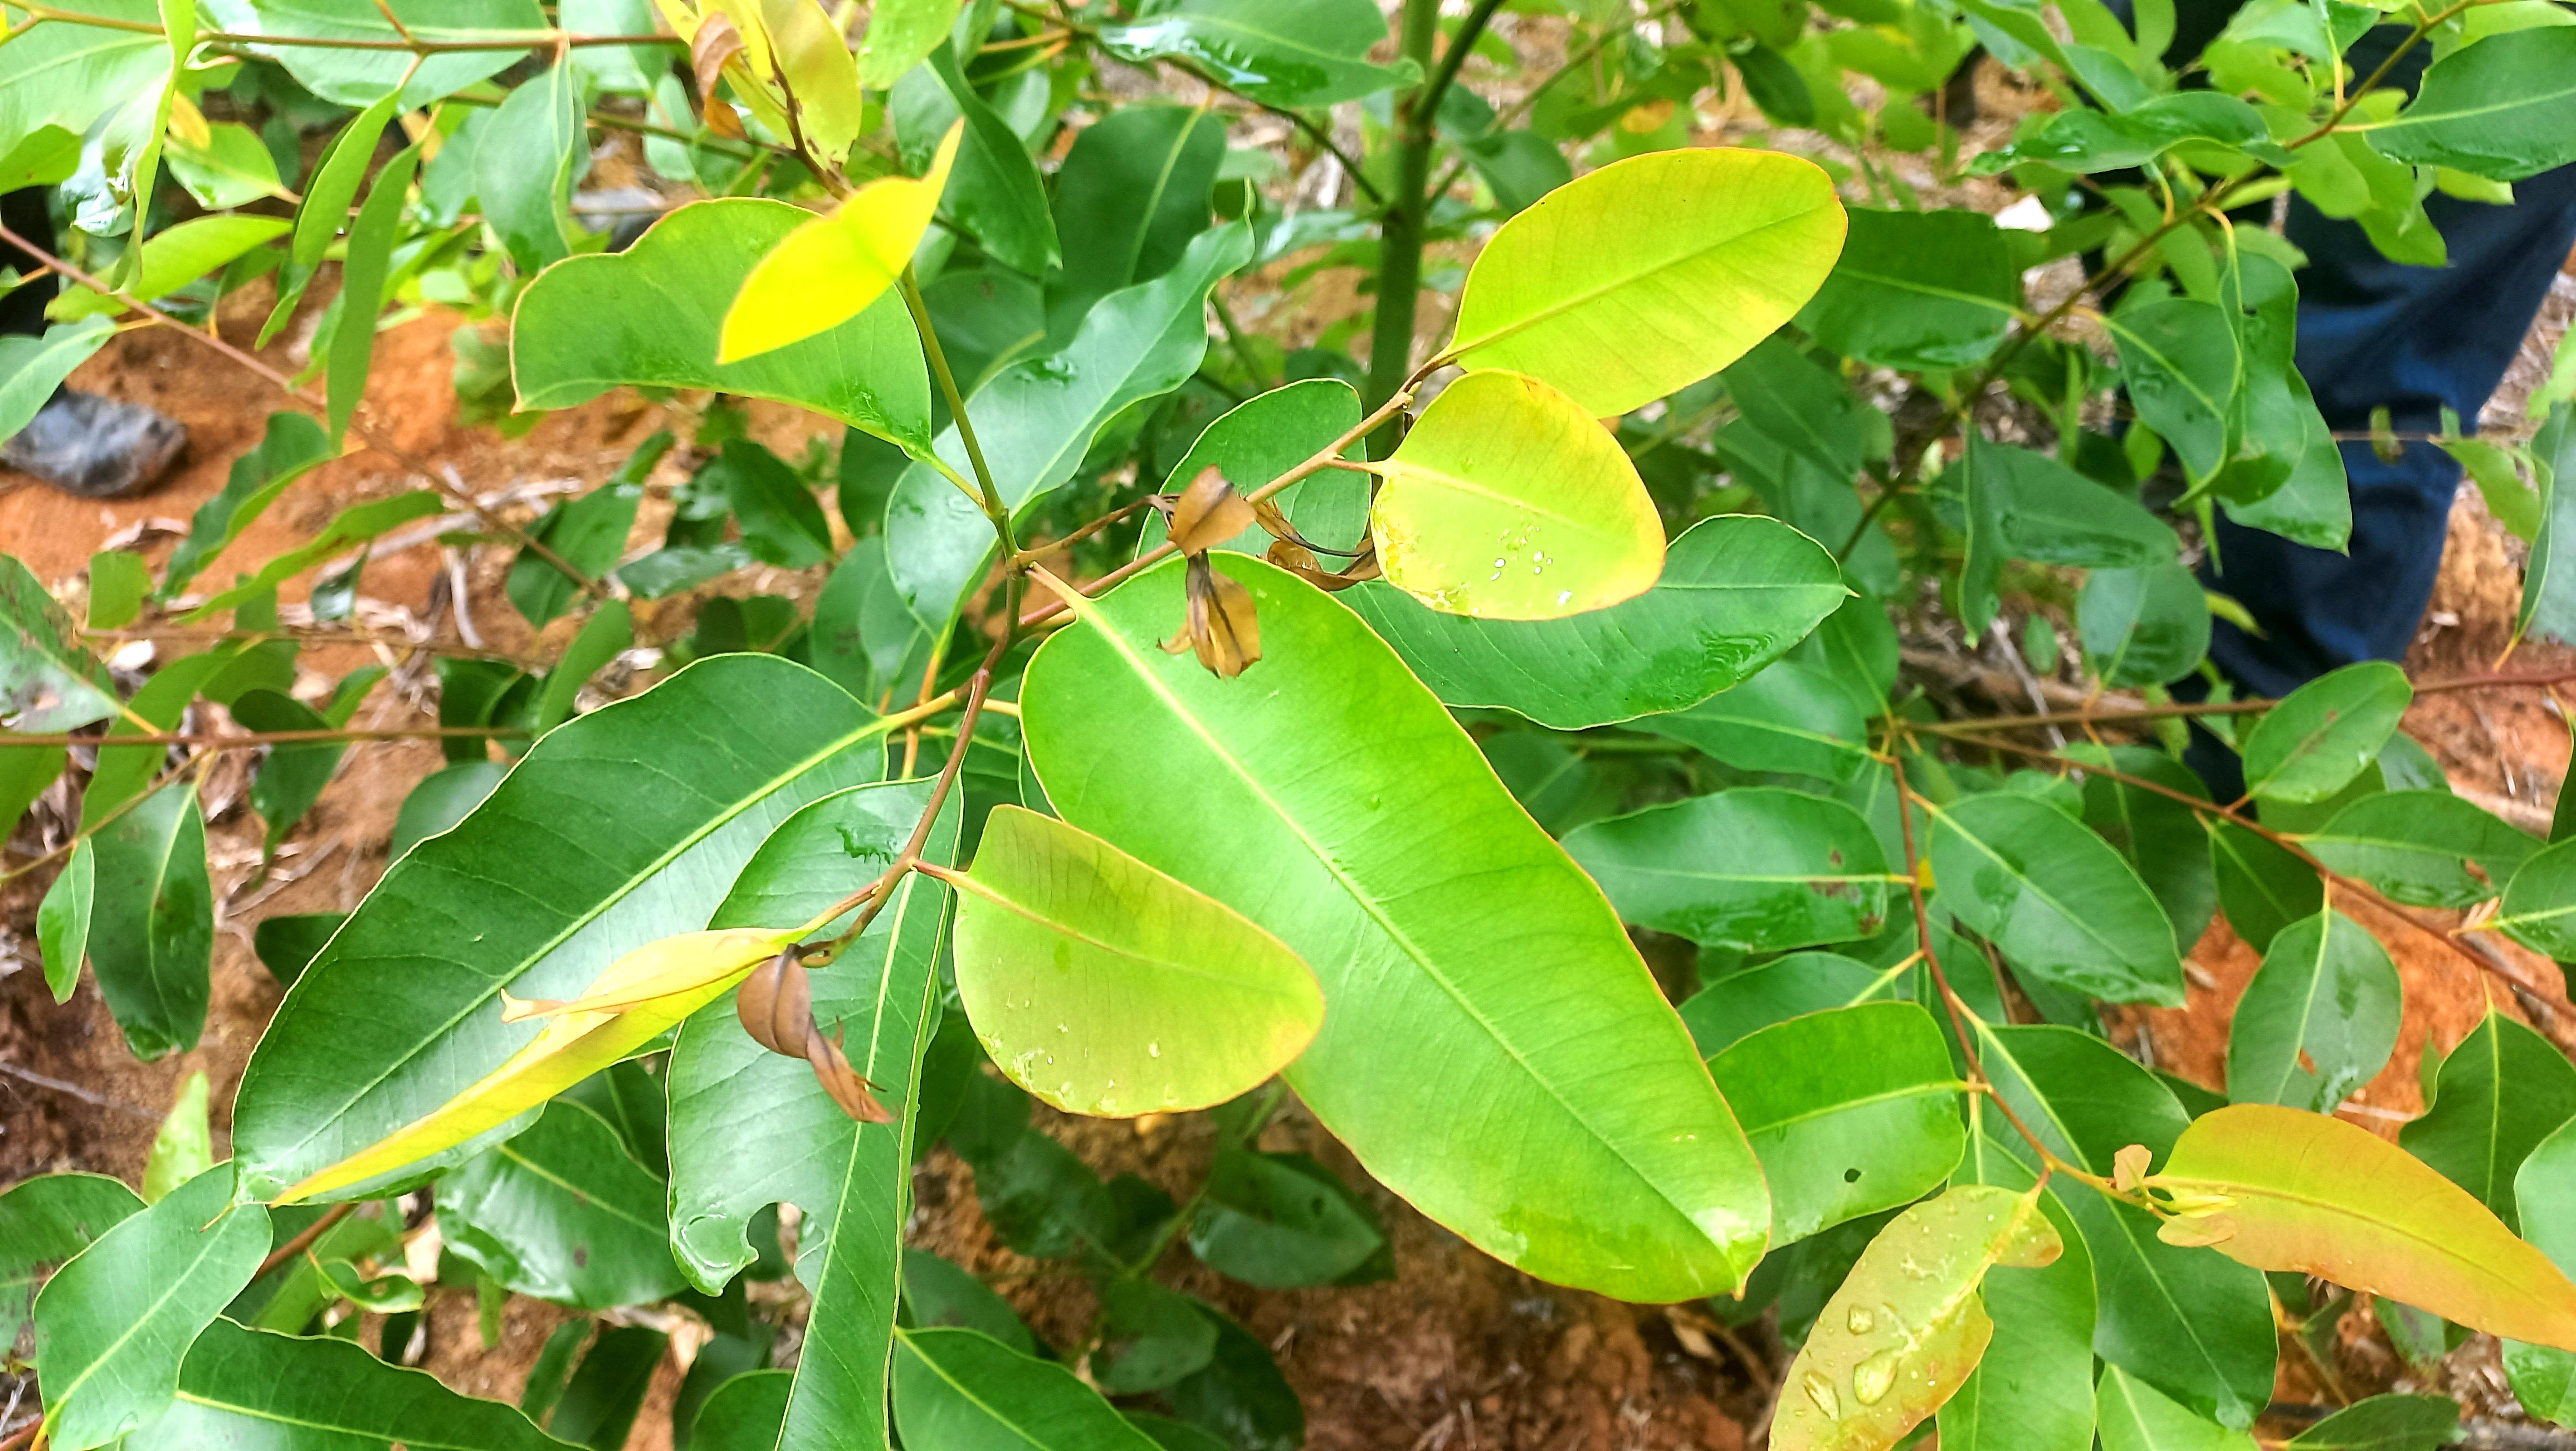Helopeltis-Withered Sprout: (713, 929, 897, 1157), (1261, 503, 1380, 600), (686, 12, 761, 143), (1143, 557, 1215, 690), (1194, 559, 1267, 681), (1166, 471, 1261, 556)
